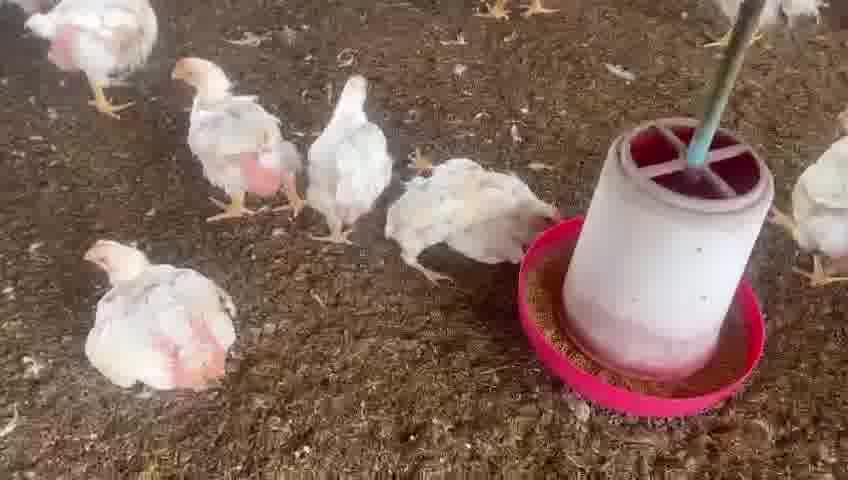AbNormal: (406, 142, 563, 258)
Normal: (71, 232, 266, 388), (168, 41, 335, 210), (29, 0, 190, 111), (308, 69, 418, 224)
